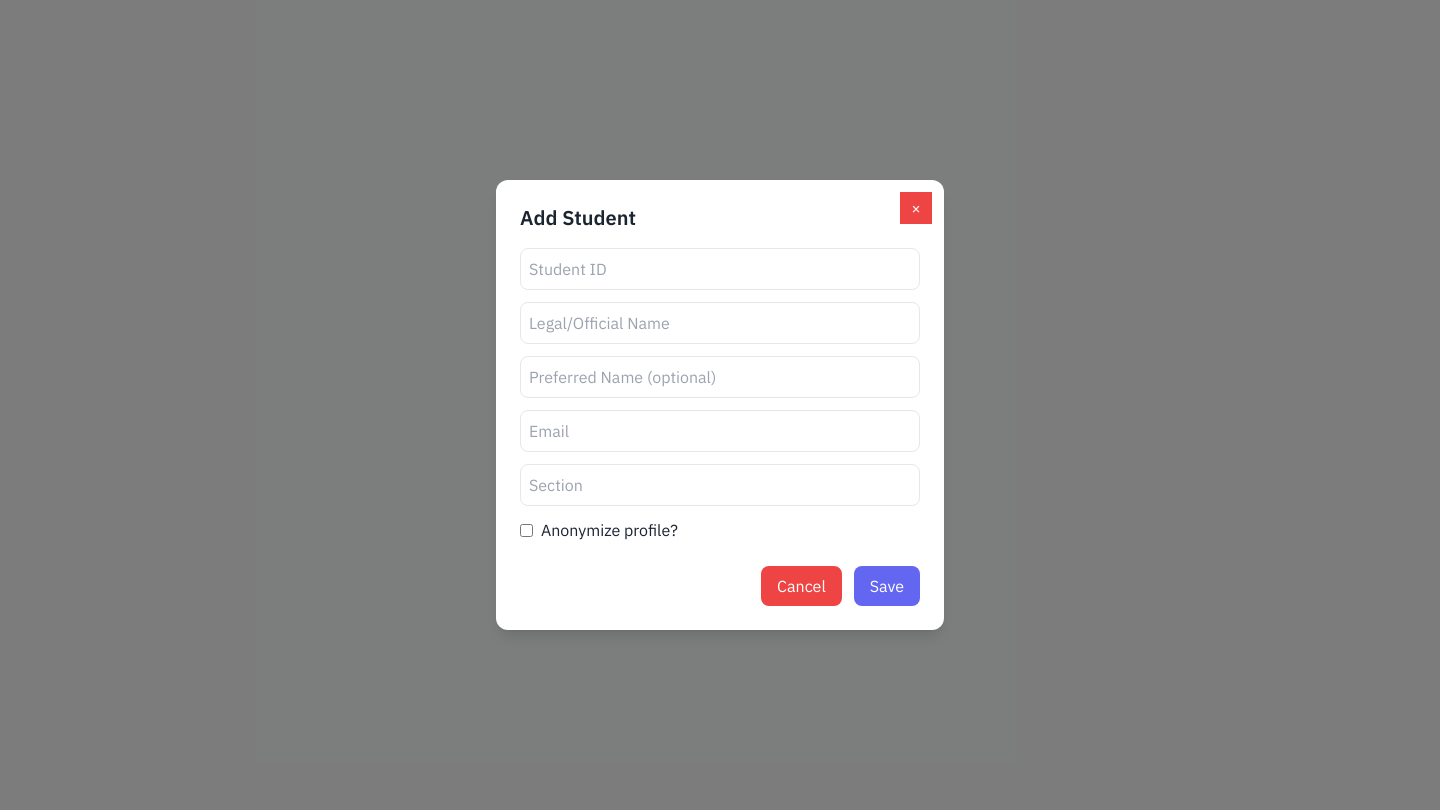
Scenario: StudentModal › shows validation errors when form is invalid
The image size is (1440, 810).
Step 1. Click the button "Save" → (887, 586), box top-left (854, 566), bottom-right (920, 606)
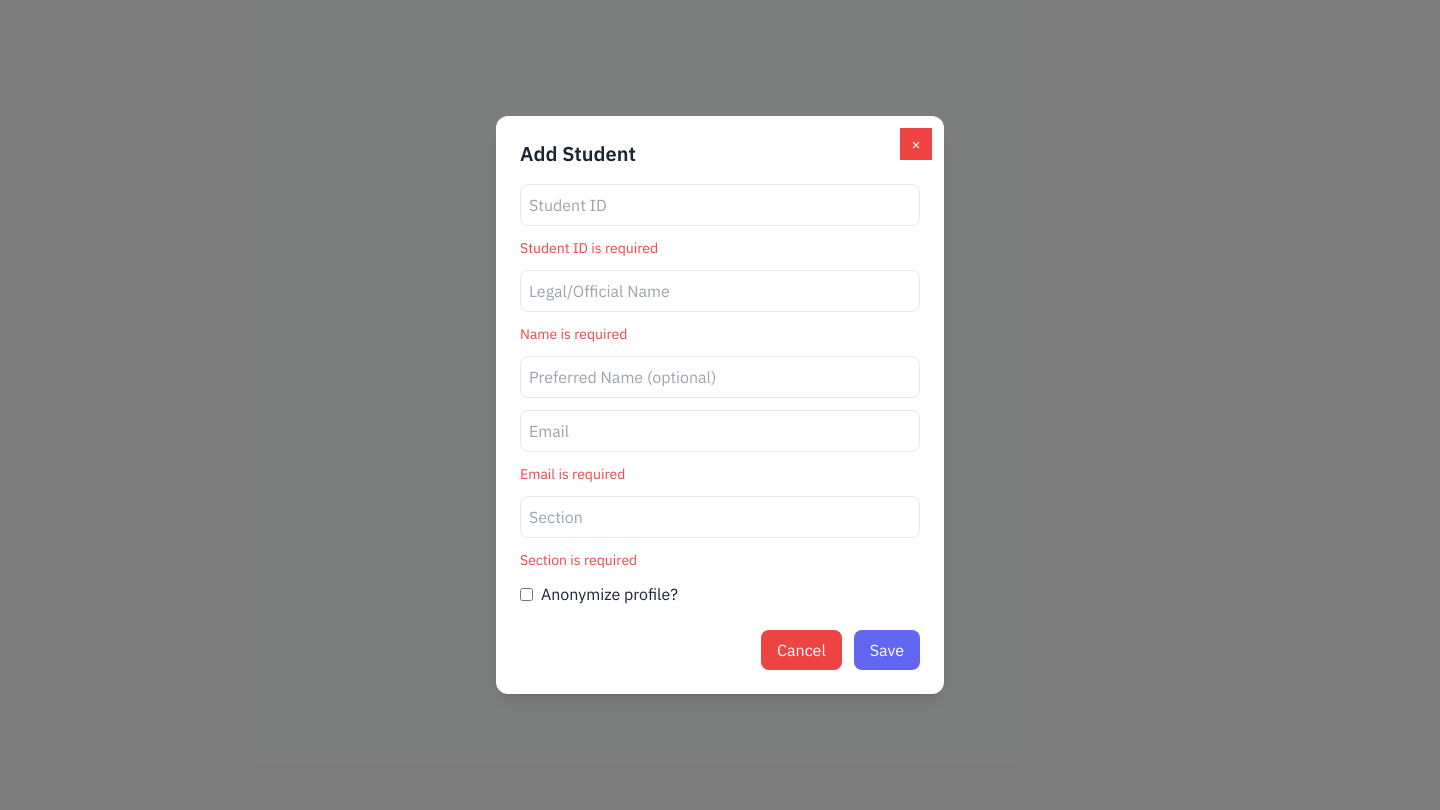
expect the text "Student ID is required" is shown: met, box top-left (520, 239), bottom-right (658, 257)
expect the text "Name is required" is shown: met, box top-left (520, 325), bottom-right (627, 343)
expect the text "Email is required" is shown: met, box top-left (520, 465), bottom-right (625, 483)
